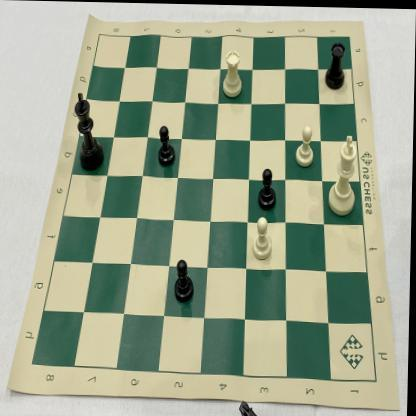black-king: (71, 87, 109, 176)
black-pawn: (170, 254, 202, 309), (153, 117, 182, 172), (255, 161, 282, 213)
black-rook: (321, 36, 350, 95)
white-king: (323, 127, 362, 220)
white-pawn: (249, 212, 279, 264), (293, 120, 320, 168)
white-rook: (218, 46, 248, 105)
